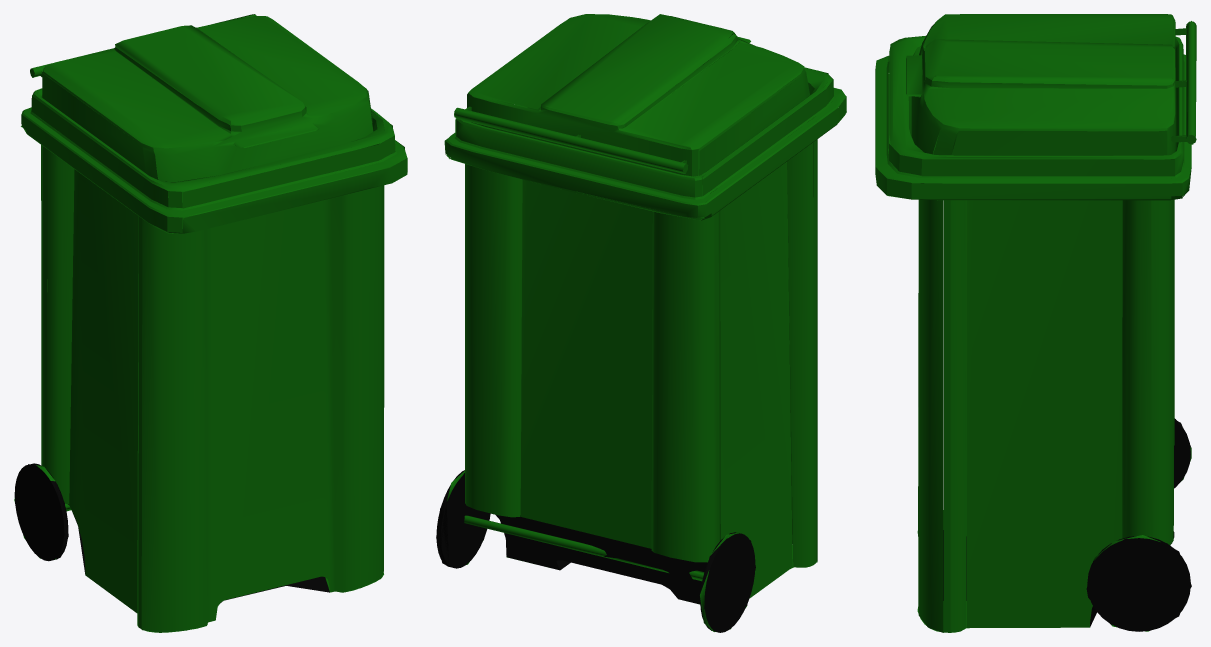
File: bidone_spazzatura.fbx
3 renders of one model, left to right at view 1: azimuth 30°, elevation 25°; view 2: azimuth 150°, elevation 25°; view 3: azimuth 270°, elevation 25°, orthographic. The views are drawn at different scales.
Visible parts, largest first — view 1: Rubbish bin.003; view 2: Rubbish bin.003; view 3: Rubbish bin.003.
Boxes of the visible parts, left/top/right/bottom form: Rubbish bin.003: left=14, top=14, right=407, bottom=632; Rubbish bin.003: left=436, top=14, right=846, bottom=632; Rubbish bin.003: left=875, top=14, right=1196, bottom=632.
Bounding box in the file's own units: 25.43 × 45.92 × 26.03.
